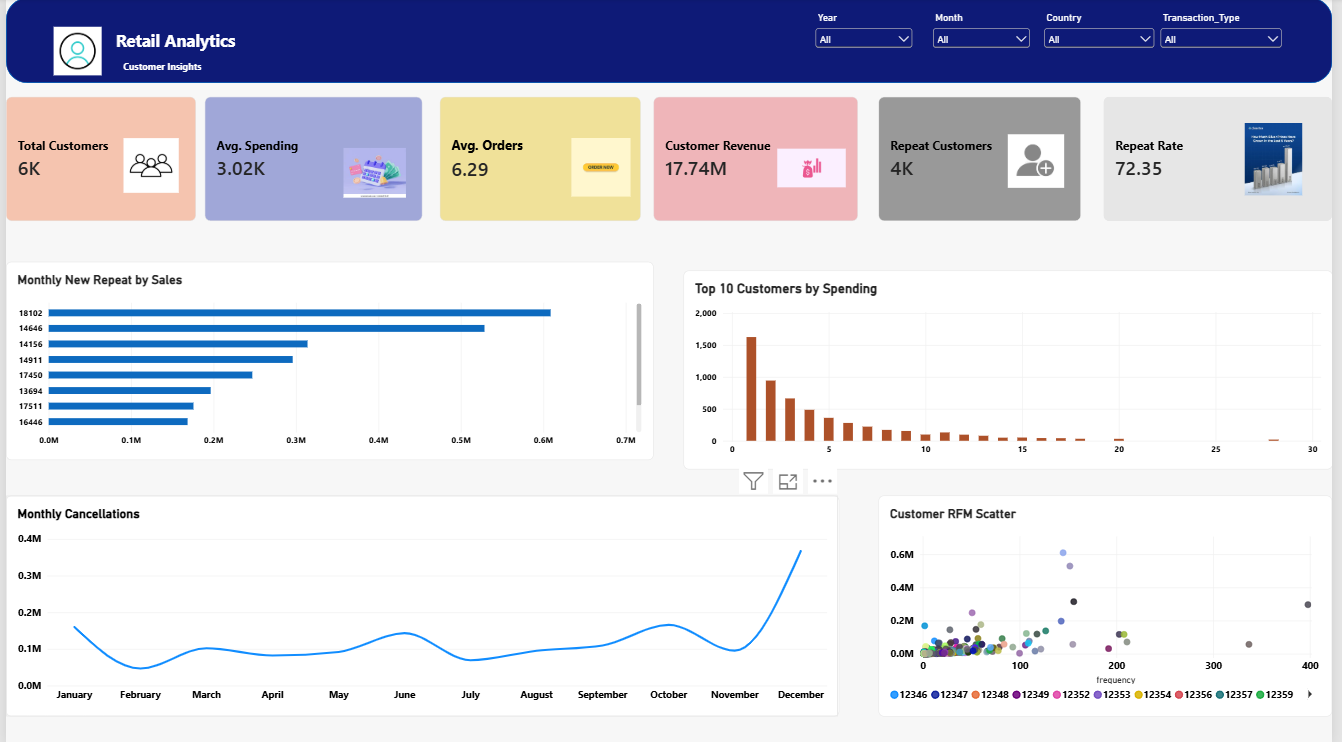

The dashboard page shown, as its layout file describes it:
{"tool":"powerbi","page":{"name":"Page 3","canvas":[1920,1080],"ordinal":2},"visuals":[{"type":"shape","box":[0,0,1920.1,123.1],"z":0},{"type":"cardVisual","fields":{"Data":["Sum(Customer_Retention.total_customers)"]},"box":[0,143.3,275,180],"z":1000},{"type":"cardVisual","fields":{"Data":["Calculations.Total Customer Revenue"]},"box":[936.7,143.3,296.7,180],"z":2000},{"type":"cardVisual","fields":{"Data":["Sum(Customer_Retention.repeat_customer_rate_pct)"]},"box":[1588.3,143.3,331.7,180],"z":3000},{"type":"cardVisual","fields":{"Data":["Sum(Customer_Retention.repeat_customers)"]},"box":[1263.3,143.3,293.3,180],"z":4000},{"type":"cardVisual","fields":{"Data":["Calculations.Average Orders per Customer"]},"box":[628.3,143.3,291.7,180],"z":5000},{"type":"cardVisual","fields":{"Data":["Calculations.Average Customer Spending"]},"box":[288.3,143.3,315,180],"z":6000},{"type":"clusteredBarChart","title":"Monthly New Repeat by Sales","fields":{"Category":["Customer_RFM.customer_id"],"Y":["Sum(Customer_RFM.monetary_value_gbp)"]},"box":[0,382.5,937.5,287.5],"z":7000},{"type":"clusteredColumnChart","title":"Top 10 Customers by Spending","fields":{"Category":["Customer_RFM.frequency"],"Y":["CountNonNull(Customer_RFM.customer_id)"]},"box":[980,395,940,288.3],"z":8000},{"type":"lineChart","title":"Monthly Cancellations","fields":{"Category":["Monthly_Cancellations.cancellation_month.Variation.Date Hierarchy.Month"],"Y":["Sum(Monthly_Cancellations.cancellation_amount_gbp)"]},"box":[0,720,1206,320],"z":9000},{"type":"scatterChart","title":"Customer RFM Scatter","fields":{"Series":["Customer_RFM.customer_id"],"X":["Customer_RFM.frequency"],"Y":["Sum(Customer_RFM.monetary_value_gbp)"]},"box":[1263.3,720,656.7,320],"z":10000},{"type":"slicer","fields":{"Values":["transactions.year"]},"box":[1168,20,150,76],"z":11000},{"type":"slicer","fields":{"Values":["transactions.month"]},"box":[1338,20,150,76],"z":12000},{"type":"slicer","fields":{"Values":["transactions.country"]},"box":[1498,20,169,76],"z":13000},{"type":"slicer","fields":{"Values":["transactions.transaction_type"]},"box":[1667,20,185,71],"z":14000},{"type":"shape","box":[138,88,177.8,21.1],"z":15000},{"type":"image","box":[56.1,41.6,95,70],"z":16000},{"type":"image","box":[170.1,197.3,79.6,90.5],"z":16001},{"type":"image","box":[488.6,202.7,90.5,101.3],"z":16002},{"type":"image","box":[774.5,202.7,173.7,85.1],"z":16003},{"type":"image","box":[1116.6,170.1,99.5,152],"z":16004},{"type":"image","box":[1449.5,197.3,83.2,77.8],"z":16005},{"type":"image","box":[1793.4,181,83.2,105],"z":16006}]}

Visuals, with their boxes in screenshot pixels (x1, y1, x2, y2), scaled from the page's 1920x1080 canvas onto the 1342x742 screenshot:
shape: box=[0, 0, 1341, 85]
cardVisual - Sum(Customer_Retention.total_customers): box=[0, 98, 192, 222]
cardVisual - Calculations.Total Customer Revenue: box=[655, 98, 862, 222]
cardVisual - Sum(Customer_Retention.repeat_customer_rate_pct): box=[1110, 98, 1341, 222]
cardVisual - Sum(Customer_Retention.repeat_customers): box=[883, 98, 1088, 222]
cardVisual - Calculations.Average Orders per Customer: box=[439, 98, 643, 222]
cardVisual - Calculations.Average Customer Spending: box=[202, 98, 422, 222]
"Monthly New Repeat by Sales" clusteredBarChart: box=[0, 263, 655, 460]
"Top 10 Customers by Spending" clusteredColumnChart: box=[685, 271, 1341, 469]
"Monthly Cancellations" lineChart: box=[0, 495, 843, 715]
"Customer RFM Scatter" scatterChart: box=[883, 495, 1341, 715]
slicer - transactions.year: box=[816, 14, 921, 66]
slicer - transactions.month: box=[935, 14, 1040, 66]
slicer - transactions.country: box=[1047, 14, 1165, 66]
slicer - transactions.transaction_type: box=[1165, 14, 1294, 63]
shape: box=[96, 60, 221, 75]
image: box=[39, 29, 106, 77]
image: box=[119, 136, 175, 198]
image: box=[342, 139, 405, 209]
image: box=[541, 139, 663, 198]
image: box=[780, 117, 850, 221]
image: box=[1013, 136, 1071, 189]
image: box=[1254, 124, 1312, 196]
